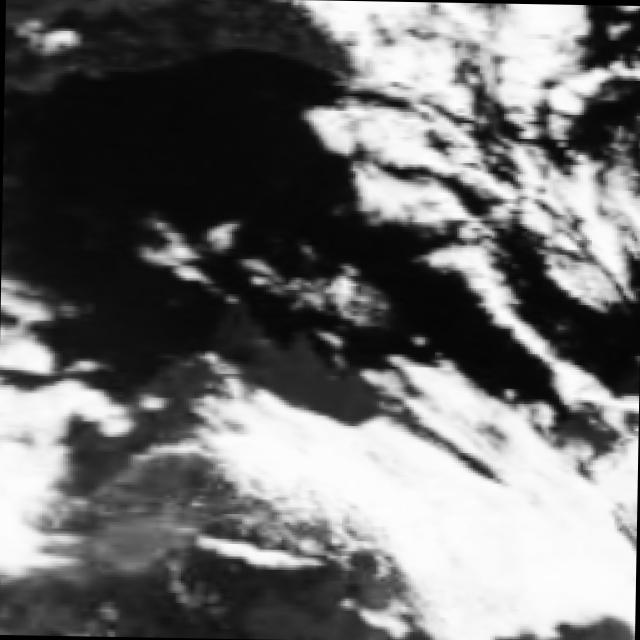CB: (396, 470, 620, 624)
